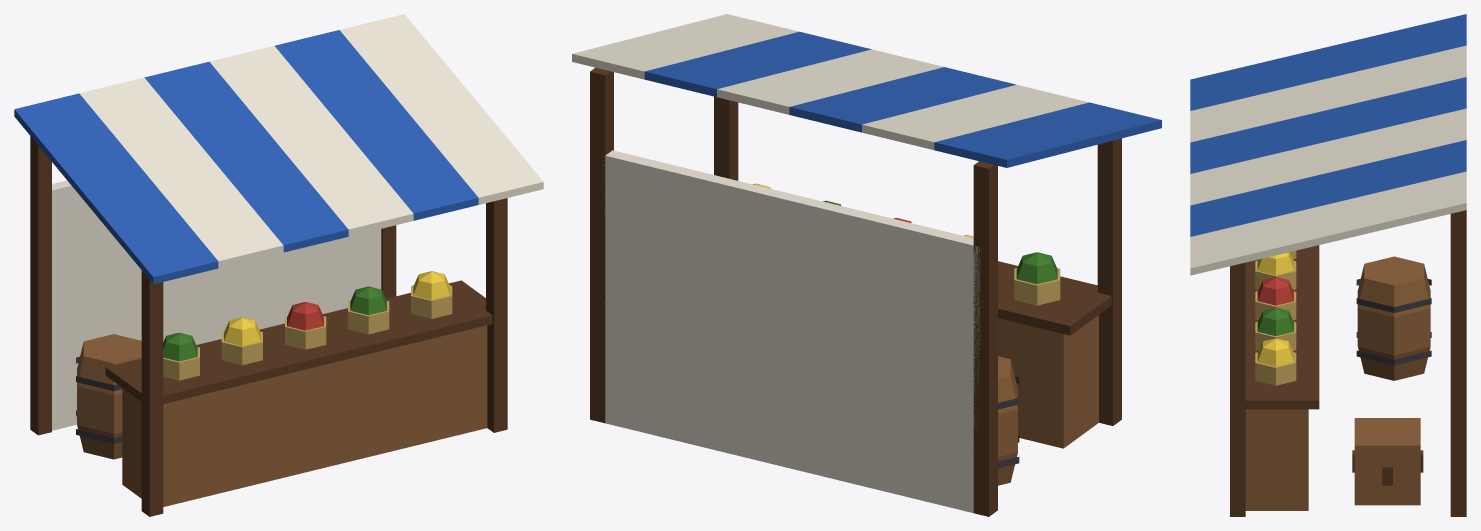
The model's file is Market_Stall_B.fbx.
The picture shows the model from 3 angles, left to right: view 1: azimuth 30°, elevation 25°; view 2: azimuth 150°, elevation 25°; view 3: azimuth 270°, elevation 25°; orthographic projection. The views are drawn at different scales.
Visible parts, largest first — view 1: Market_Stall_B; view 2: Market_Stall_B; view 3: Market_Stall_B.
Boxes of the visible parts, x1,y1,x2,y2 form: Market_Stall_B: (14, 14, 543, 516); Market_Stall_B: (572, 14, 1161, 516); Market_Stall_B: (1190, 14, 1466, 516).
Bounding box in the file's own units: 3.4 × 2.7 × 2.1.
